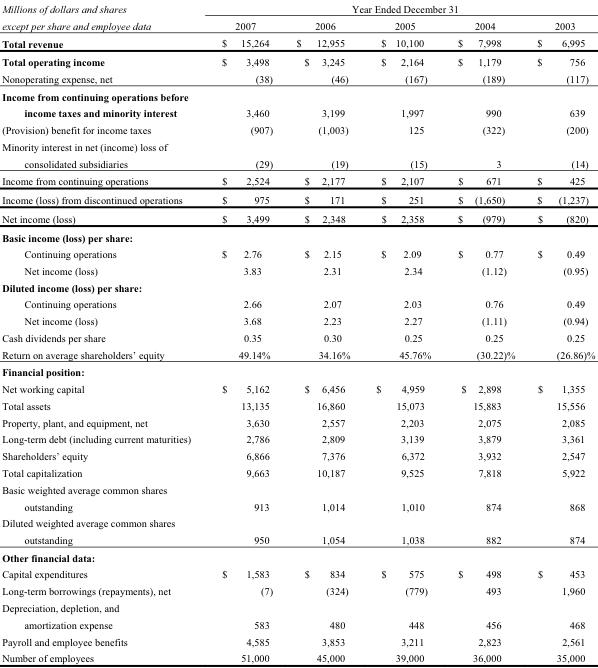table: (1, 1, 594, 664)
table column: (1, 1, 205, 664), (443, 1, 525, 664), (362, 1, 443, 664), (283, 1, 362, 664), (205, 1, 283, 664), (525, 1, 594, 664)
table column header: (1, 1, 594, 34)
table projected row header: (1, 227, 594, 245), (1, 362, 594, 380), (1, 87, 594, 104), (1, 137, 594, 154), (1, 278, 594, 295), (1, 480, 594, 497), (1, 514, 594, 531), (1, 548, 594, 565), (1, 599, 594, 615)
table row: (1, 189, 594, 208), (1, 208, 594, 227), (1, 16, 594, 34), (1, 34, 594, 52), (1, 52, 594, 70), (1, 171, 594, 189), (1, 227, 594, 245), (1, 362, 594, 380), (1, 70, 594, 87), (1, 87, 594, 104), (1, 104, 594, 121), (1, 137, 594, 154), (1, 154, 594, 171), (1, 261, 594, 278), (1, 278, 594, 295), (1, 295, 594, 312), (1, 312, 594, 329), (1, 345, 594, 362), (1, 396, 594, 413), (1, 413, 594, 430), (1, 430, 594, 447), (1, 447, 594, 464), (1, 480, 594, 497), (1, 497, 594, 514), (1, 514, 594, 531), (1, 531, 594, 548), (1, 548, 594, 565), (1, 565, 594, 582), (1, 582, 594, 599), (1, 615, 594, 632), (1, 632, 594, 649), (1, 121, 594, 137), (1, 245, 594, 261), (1, 329, 594, 345), (1, 380, 594, 396), (1, 464, 594, 480), (1, 599, 594, 615), (1, 1, 594, 16), (1, 649, 594, 664)
table spanning cell: (1, 1, 205, 34), (205, 1, 594, 16)
